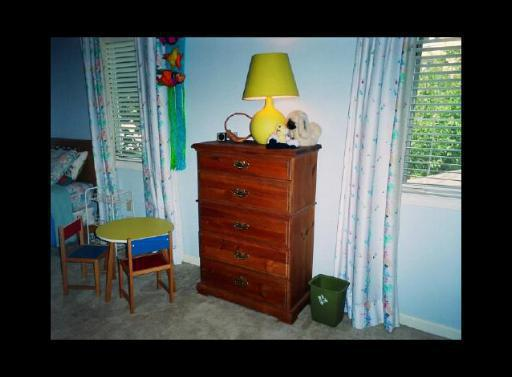Armario: (199, 147, 312, 315)
Bote de Basura: (305, 273, 352, 330)
